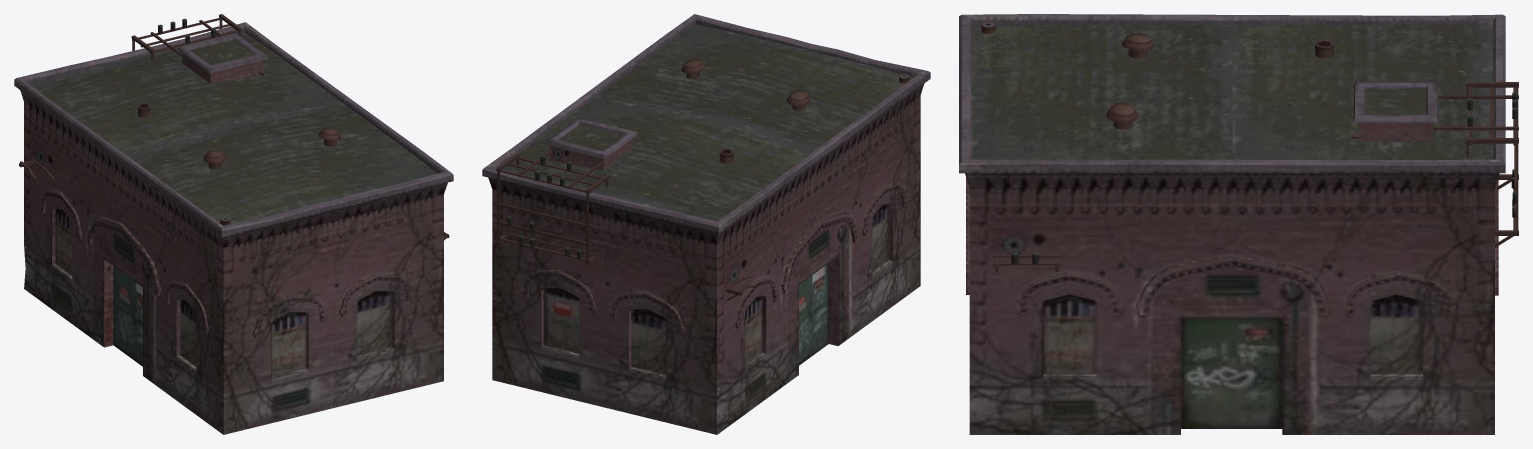
File: brick-substation.lod1.glb
3 renders of one model, left to right at view 1: azimuth 30°, elevation 25°; view 2: azimuth 150°, elevation 25°; view 3: azimuth 270°, elevation 25°, orthographic. The views are drawn at different scales.
Visible parts, largest first — view 1: BrickSubstation00__0; view 2: BrickSubstation00__0; view 3: BrickSubstation00__0.
Boxes of the visible parts, x1,y1,x2,y2 form: BrickSubstation00__0: [14, 14, 453, 434]; BrickSubstation00__0: [482, 14, 930, 434]; BrickSubstation00__0: [959, 14, 1518, 434].
Bounding box in the file's own units: 7.1 × 6.16 × 10.5.
1 material, 1 textured.
